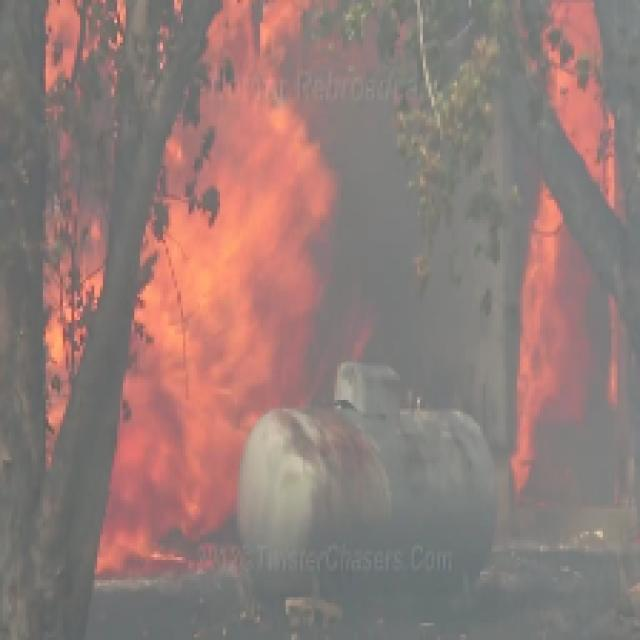Fire: (152, 121, 322, 515)
